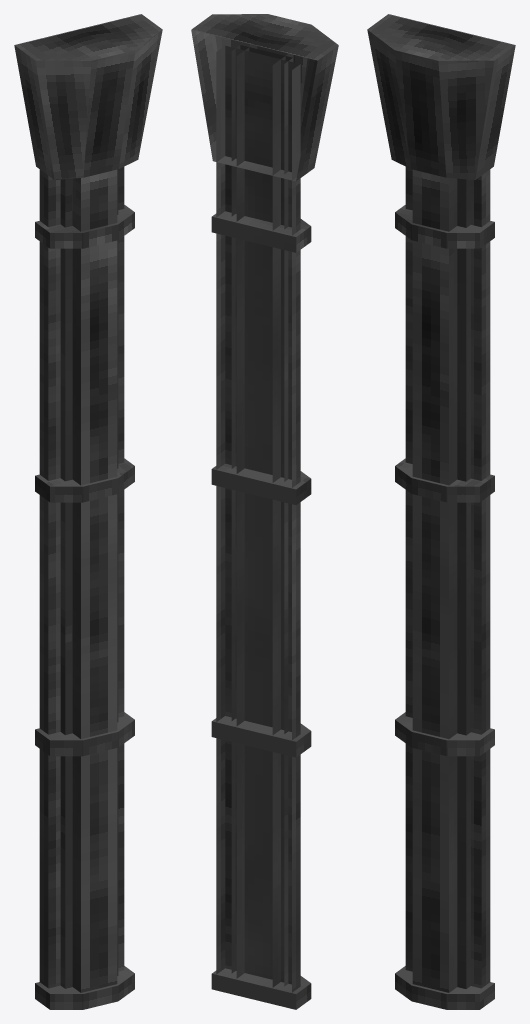
The model's file is MDL_Pillar_Upper.glb.
The picture shows the model from 3 angles, left to right: view 1: azimuth 30°, elevation 25°; view 2: azimuth 150°, elevation 25°; view 3: azimuth 330°, elevation 25°; orthographic projection.
Parts seen in each view (by area): view 1: UpperPillar_x; view 2: UpperPillar_x; view 3: UpperPillar_x.
Boxes of the visible parts, x1,y1,x2,y2 form: UpperPillar_x: (14,14,162,1009); UpperPillar_x: (191,14,338,1009); UpperPillar_x: (367,14,515,1009).
Size of the model in its own units: 0.525 by 3.78 by 0.2572.
1 material, 1 textured.
